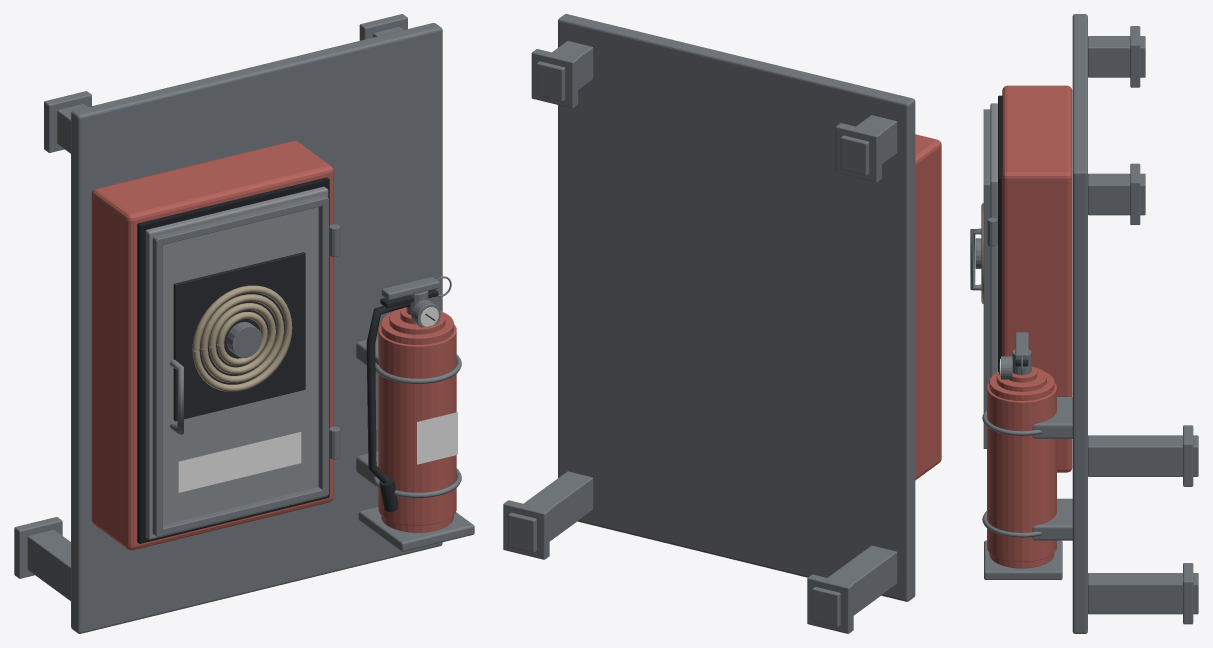
File: BP_WallSafety_R10.fbx
3 views of the same model, side by side, from view 1: azimuth 30°, elevation 25°; view 2: azimuth 150°, elevation 25°; view 3: azimuth 270°, elevation 25° (orthographic). The views are drawn at different scales.
Visible parts, largest first — view 1: BP_WallSafety_R10; view 2: BP_WallSafety_R10; view 3: BP_WallSafety_R10.
Part boxes in pixels (x1,y1,x2,y2): BP_WallSafety_R10: (14,14,474,633); BP_WallSafety_R10: (503,14,941,633); BP_WallSafety_R10: (970,14,1198,633).
Bounding box in the file's own units: 134 × 182 × 81.31.
